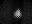person: (4, 1, 10, 7)
